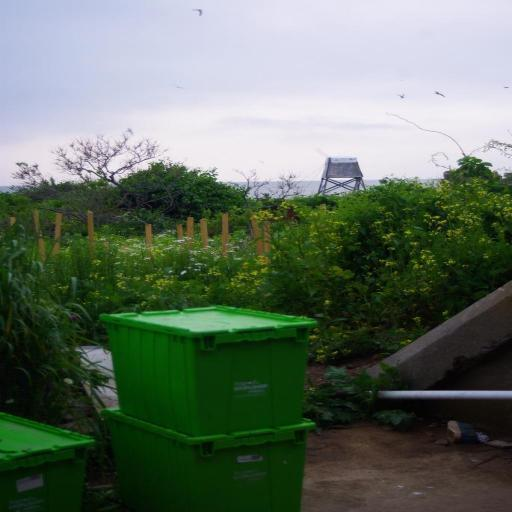trash-can: (99, 284, 361, 502)
